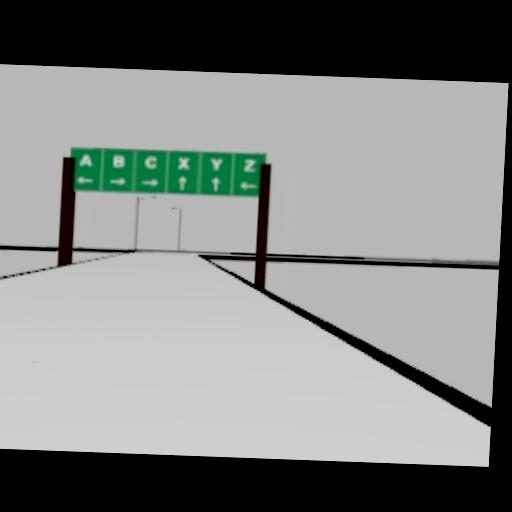A: (79, 153, 91, 166)
B: (111, 154, 123, 167)
C: (143, 156, 157, 168)
Left: (238, 182, 256, 189), (76, 176, 90, 183)
Right: (140, 178, 158, 186), (108, 177, 126, 184)
Straight: (209, 175, 221, 192), (175, 174, 187, 190)
X: (177, 157, 189, 169)
Y: (209, 156, 221, 170)
Z: (243, 159, 255, 172)
